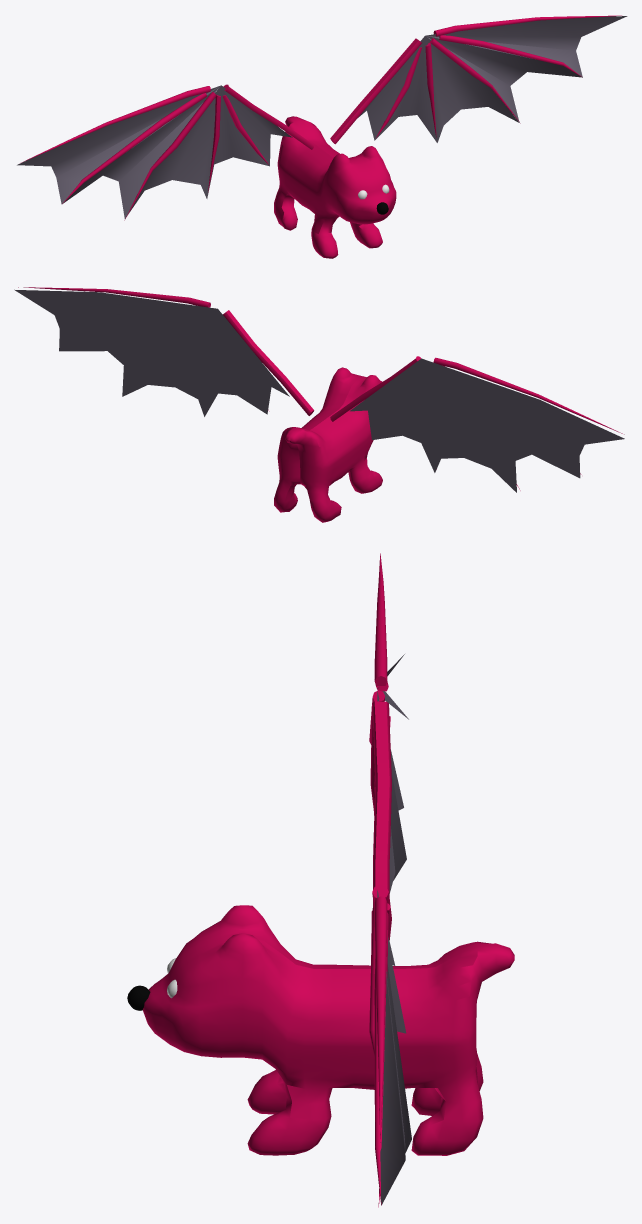
Rendered from devildog.glb.
The picture shows the model from 3 angles, top to bottom: view 1: azimuth 30°, elevation 25°; view 2: azimuth 150°, elevation 25°; view 3: azimuth 270°, elevation 25°; orthographic projection. The views are drawn at different scales.
Visible parts, largest first — view 1: hane, inubody, asrm, tume2, tume1, tume3, tume4, tume5; view 2: hane1, inubody, tume1, asrm; view 3: inubody, hane, asrm, tume1, tume2.
Boxes of the visible parts, box(x1,y1,x2,y2) form: hane: box(17, 16, 627, 218); inubody: box(274, 116, 396, 258); asrm: box(223, 38, 421, 149); tume2: box(62, 35, 581, 203); tume1: box(21, 15, 621, 162); tume3: box(124, 38, 520, 220); tume4: box(208, 43, 436, 192); tume5: box(222, 47, 421, 164); hane1: box(14, 289, 624, 492); inubody: box(274, 367, 382, 522); tume1: box(18, 287, 624, 434); asrm: box(223, 310, 421, 421); inubody: box(143, 905, 514, 1155); hane: box(377, 654, 411, 1205); asrm: box(372, 701, 391, 940); tume1: box(374, 553, 387, 1142); tume2: box(374, 681, 388, 1205).
Bounding box in the file's own units: 1.18 × 0.322 × 0.324.
